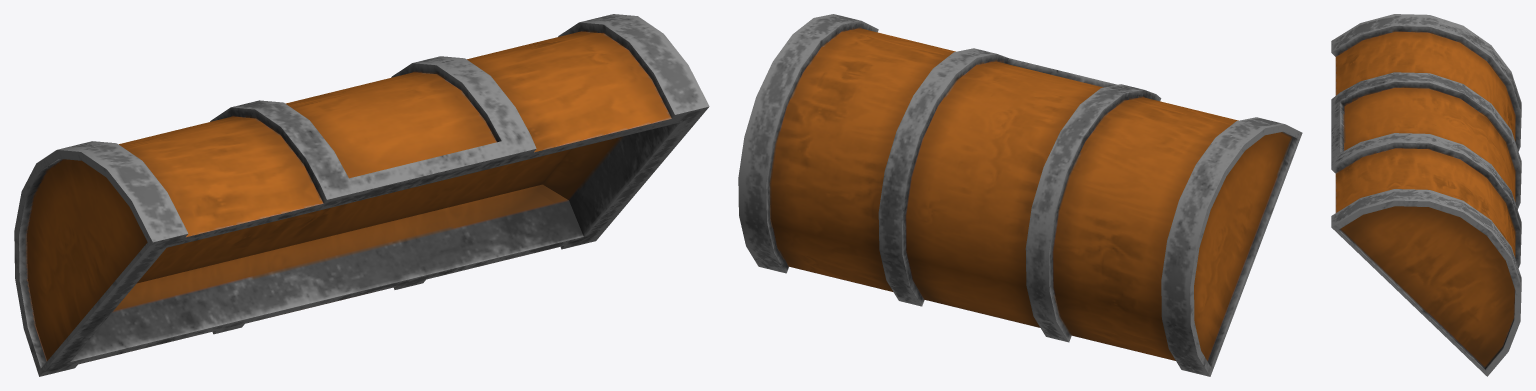
Rendered from Chest_Top.fbx.
The picture shows the model from 3 angles, left to right: view 1: azimuth 30°, elevation 25°; view 2: azimuth 150°, elevation 25°; view 3: azimuth 270°, elevation 25°; orthographic projection. The views are drawn at different scales.
Visible parts, largest first — view 1: CofreTapa; view 2: CofreTapa; view 3: CofreTapa.
Boxes of the visible parts, box(x1,y1,x2,y2) form: CofreTapa: box(14, 14, 709, 376); CofreTapa: box(738, 14, 1302, 376); CofreTapa: box(1331, 14, 1521, 376).
Bounding box in the file's own units: 206 × 90.84 × 88.74.
1 material, 1 textured.
